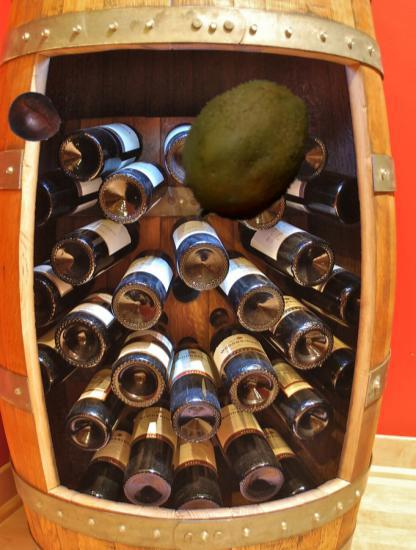Chestnut: (6, 91, 60, 145)
Papaya: (171, 75, 321, 225)
